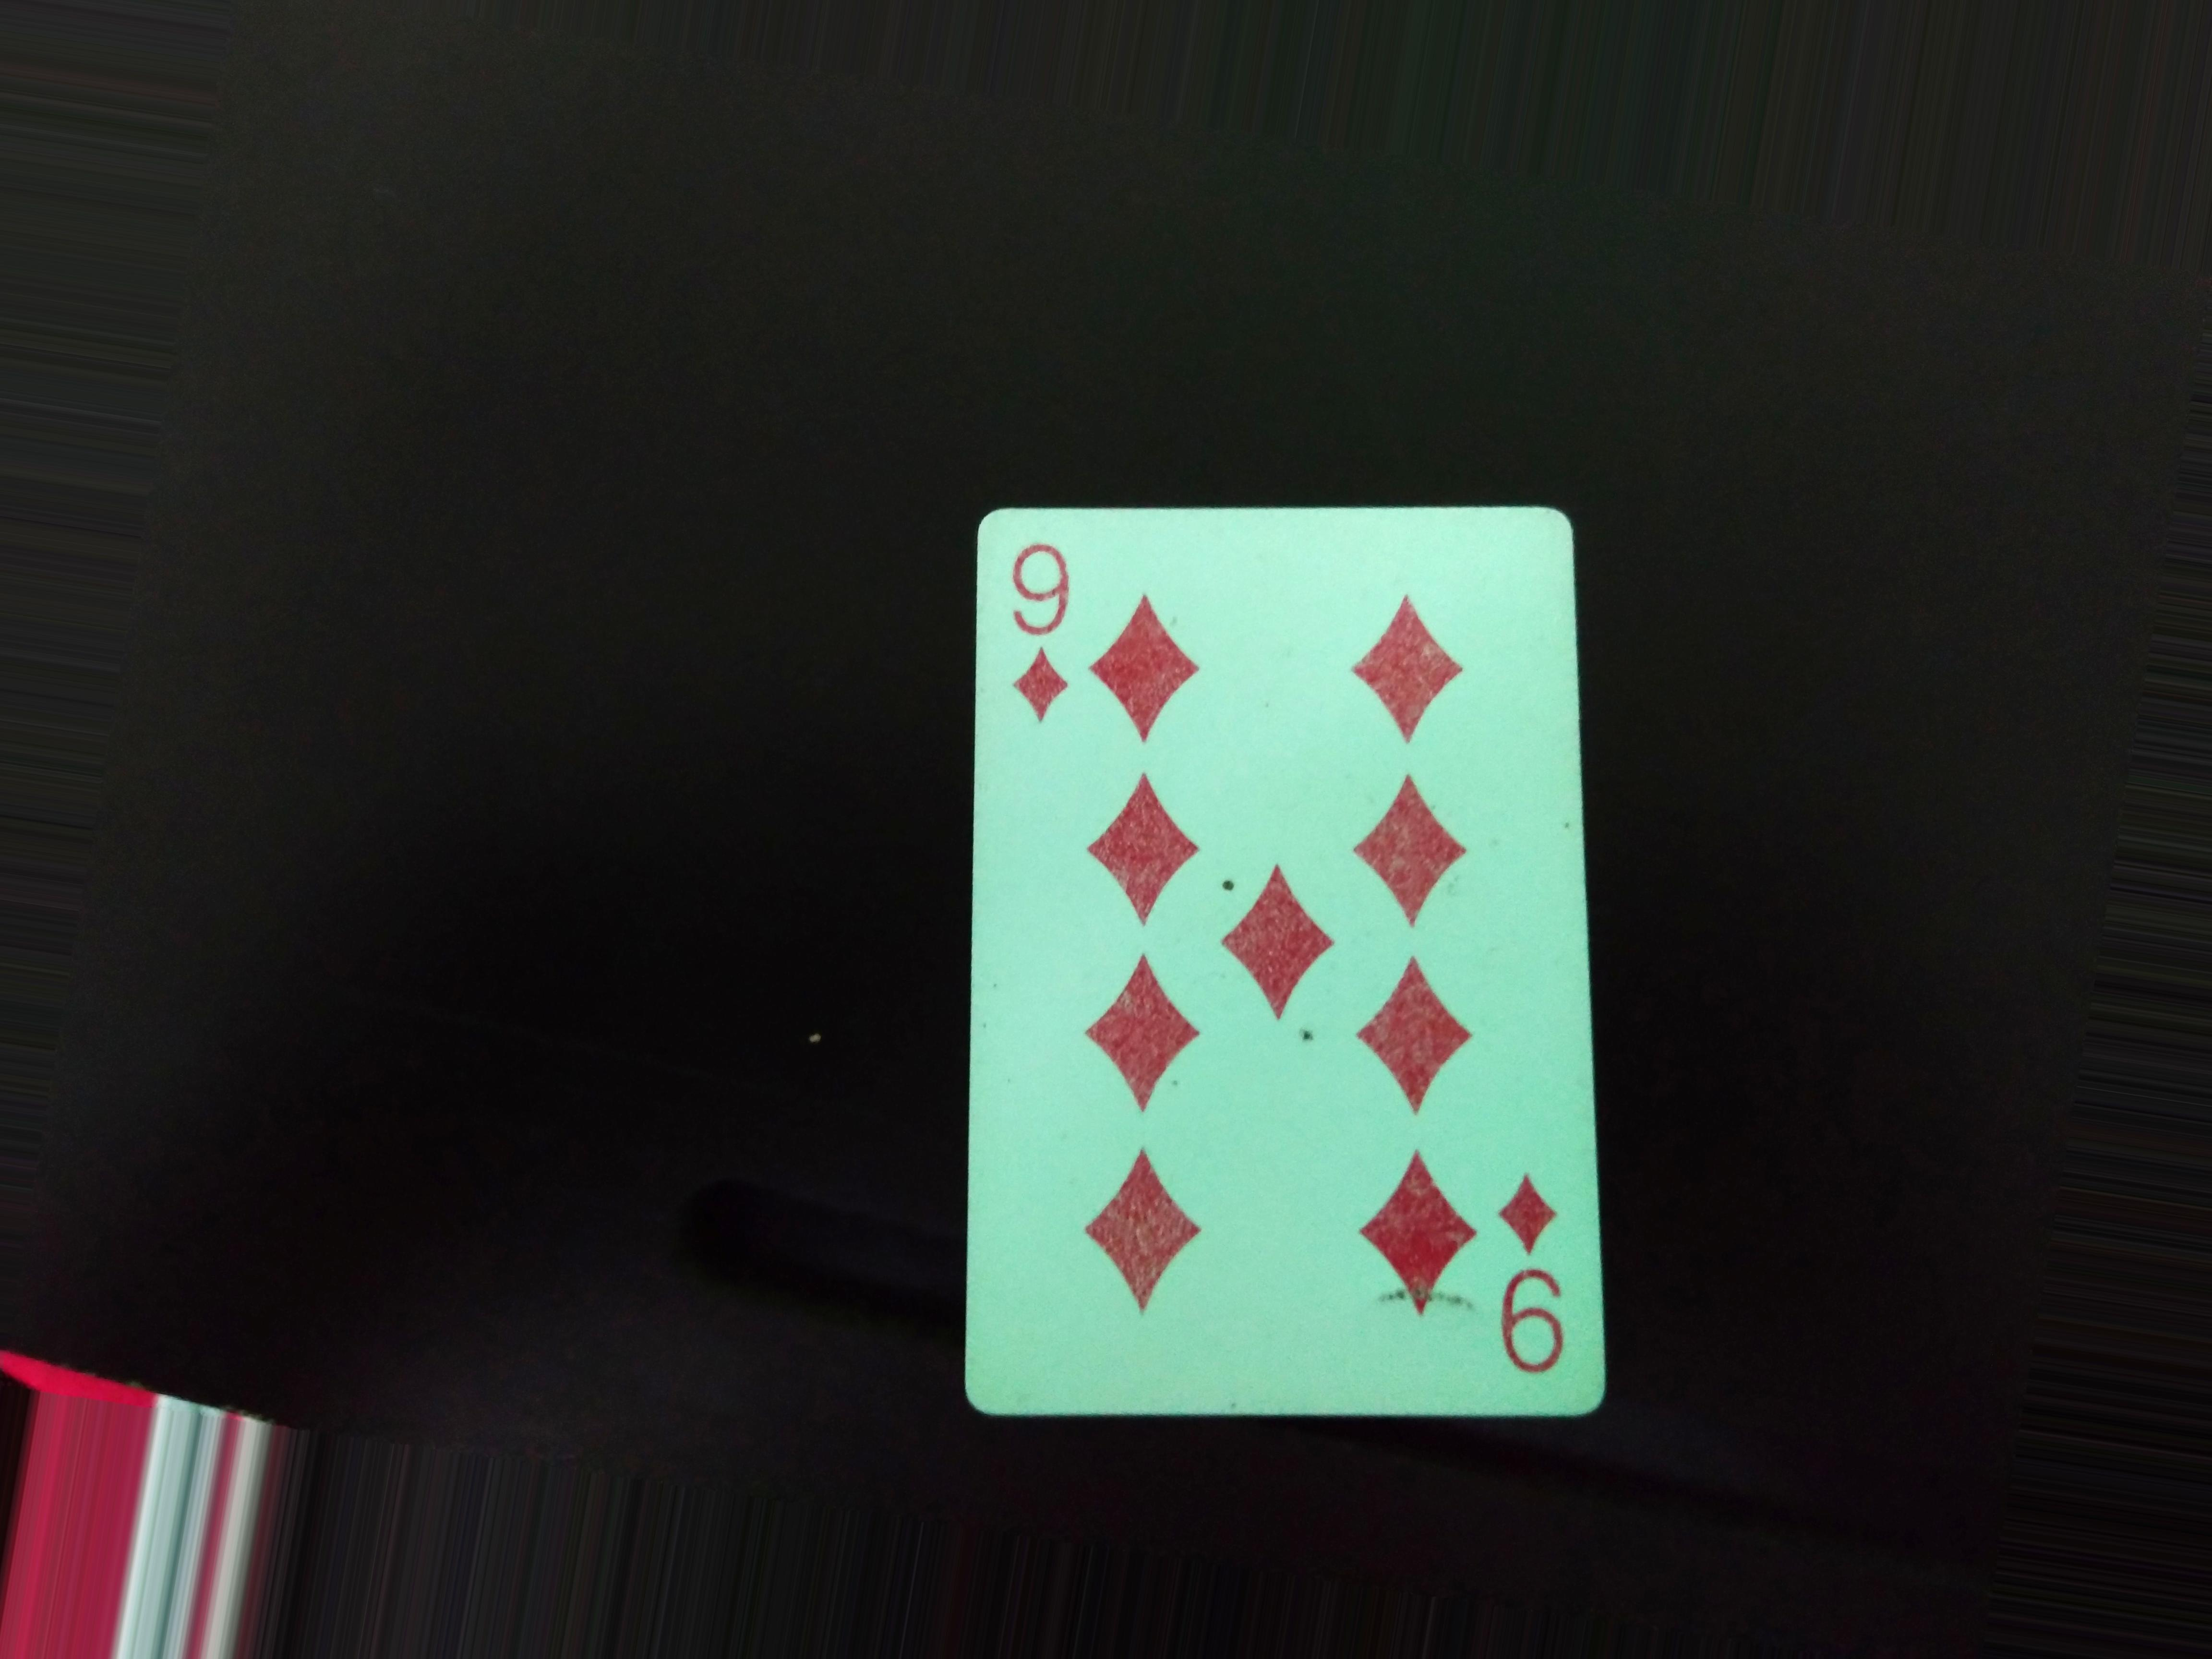9D: (989, 530, 1087, 730)
